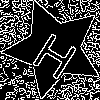H: (29, 23, 86, 82)
